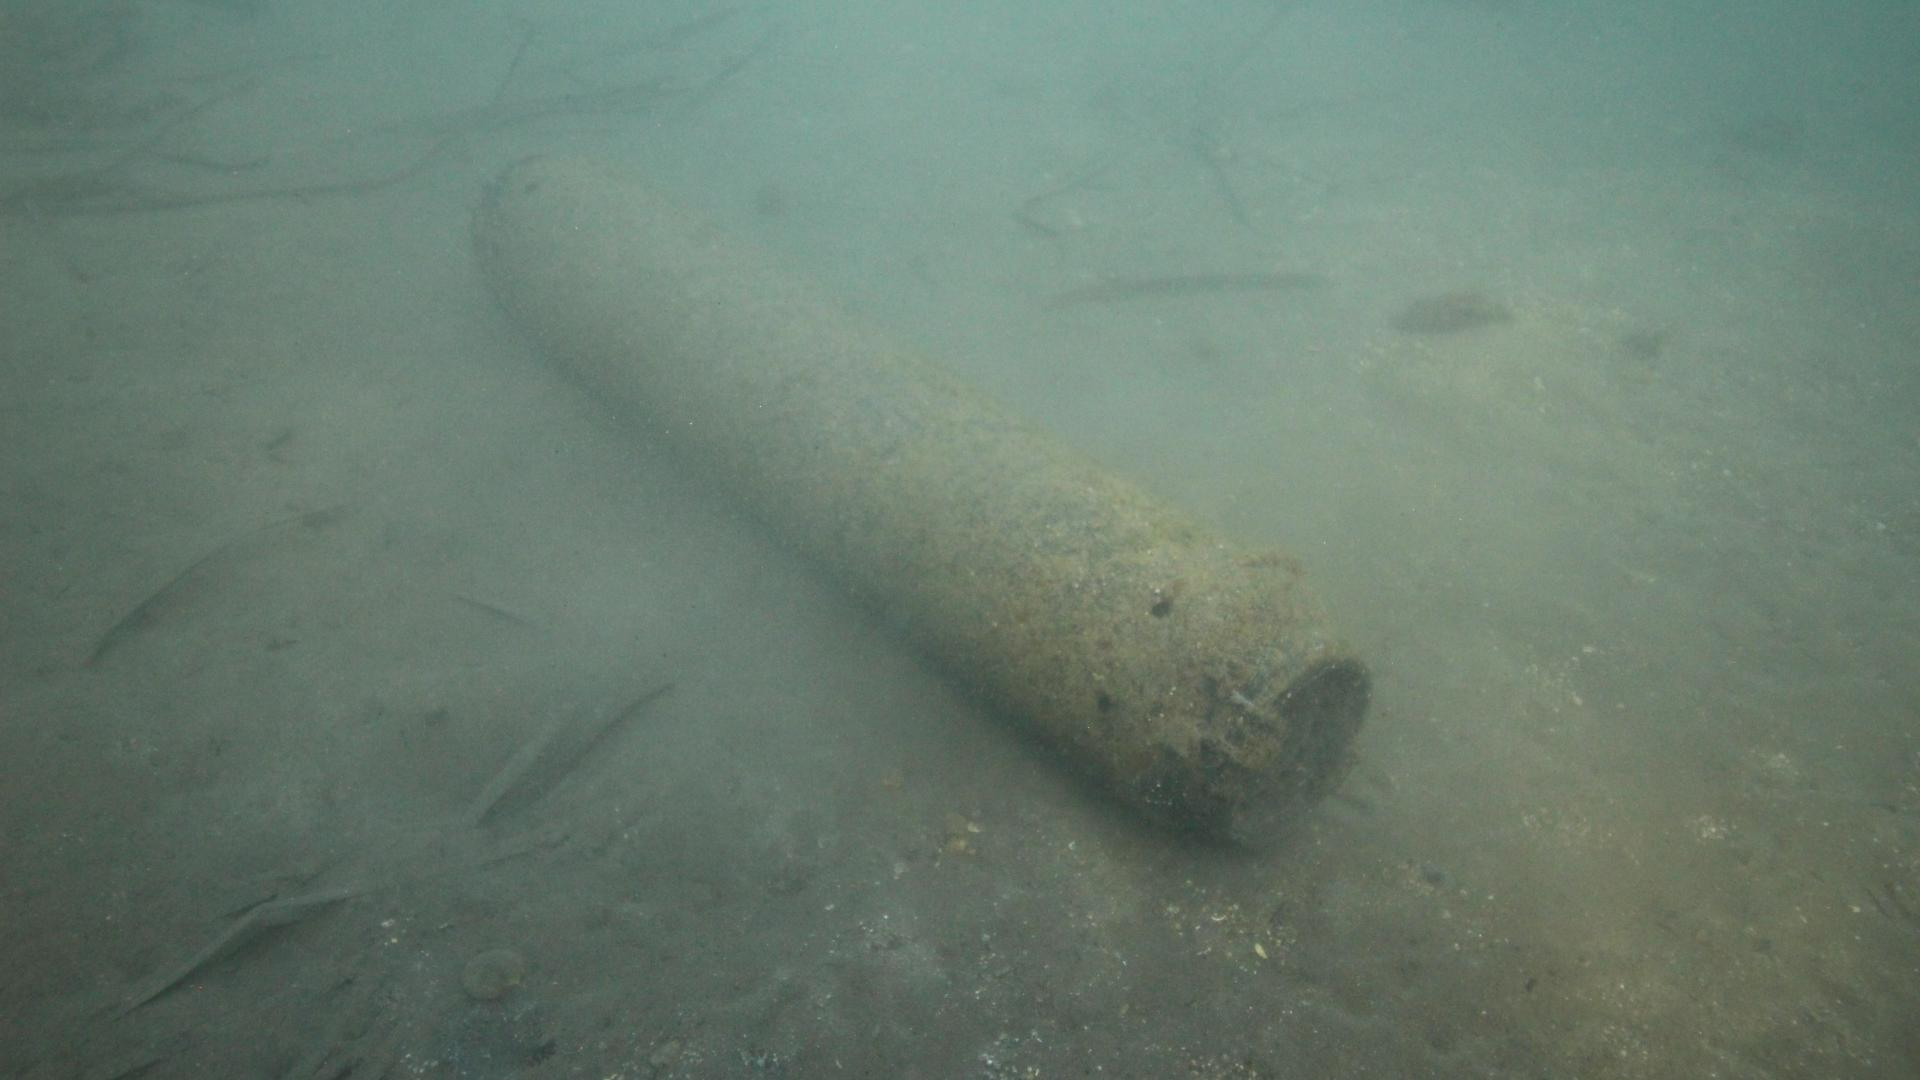eel fish trap: (477, 149, 1375, 845)
